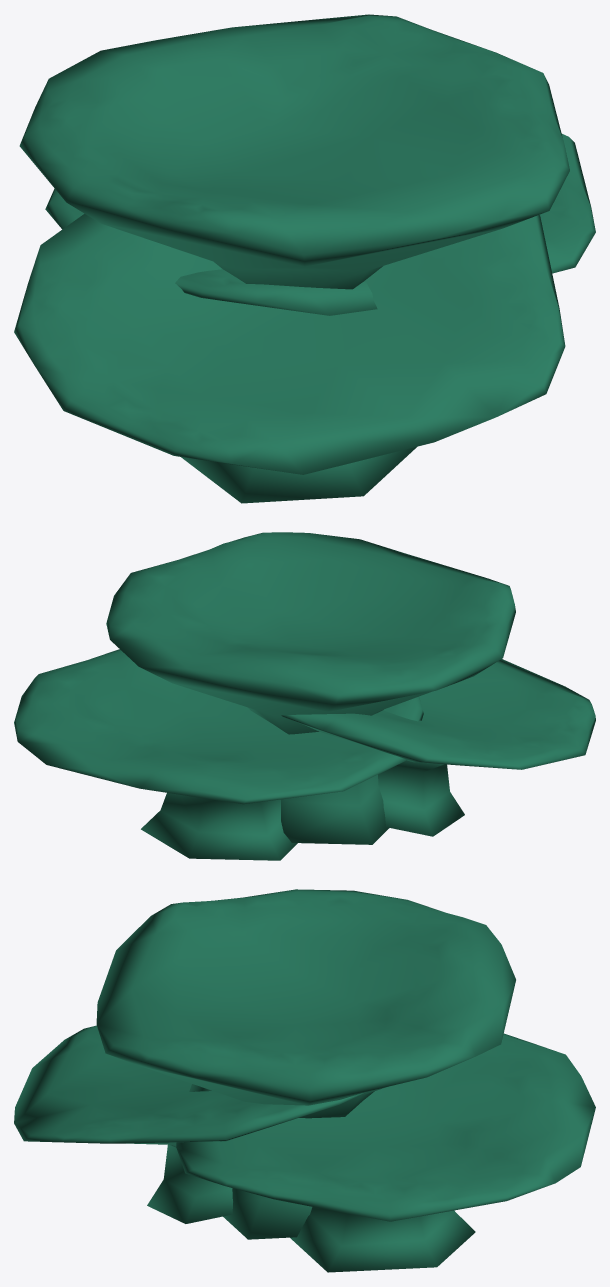
Rendered from my_mesh_Table_Coral.002.glb.
3 views of the same model, one above another, from view 1: azimuth 30°, elevation 25°; view 2: azimuth 150°, elevation 25°; view 3: azimuth 270°, elevation 25° (orthographic). The views are drawn at different scales.
Visible parts, largest first — view 1: Table_Coral.002; view 2: Table_Coral.002; view 3: Table_Coral.002.
Part boxes in pixels (box(x1,y1,x2,y2)): Table_Coral.002: box(14, 14, 595, 503); Table_Coral.002: box(14, 532, 595, 860); Table_Coral.002: box(14, 889, 595, 1272).
Size of the model in its own units: 12.02 by 5.72 by 11.89.
Materials: 1 (1 with a texture image).
